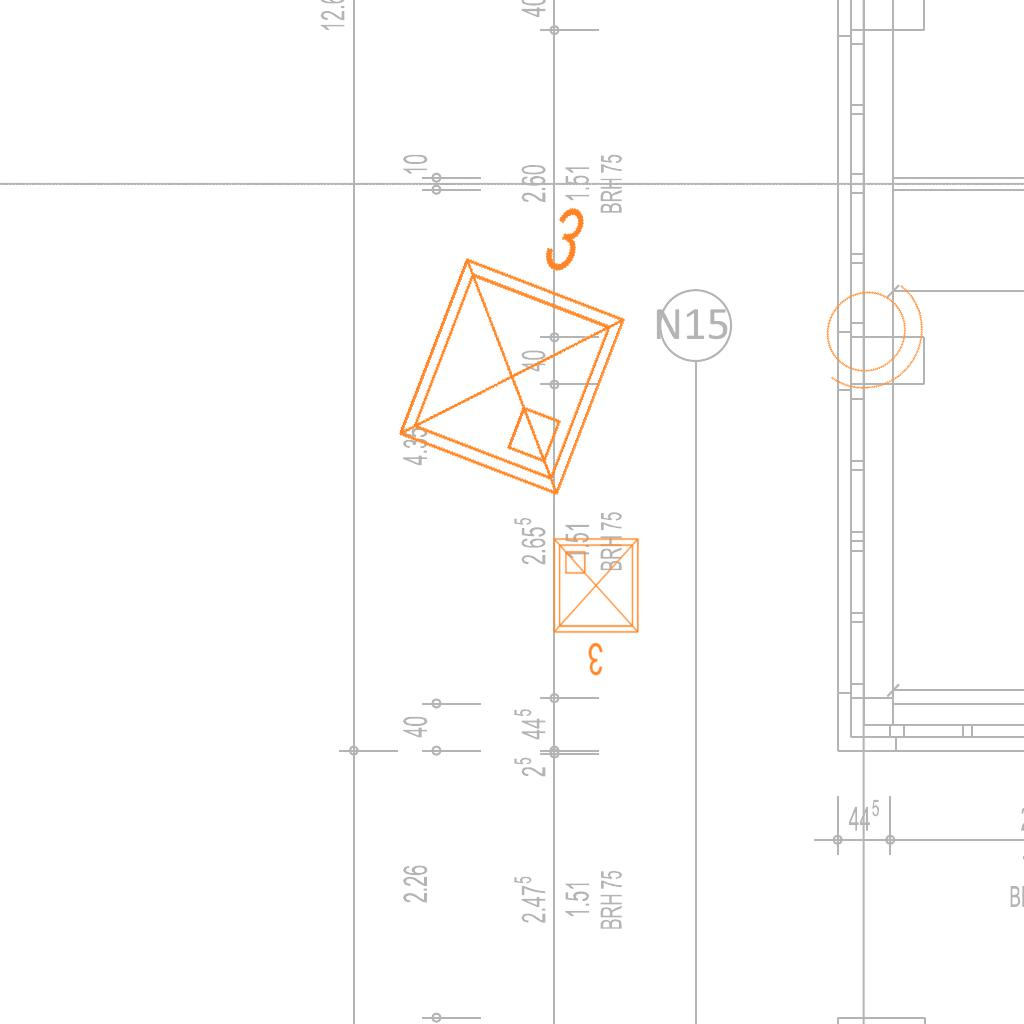Einbaudownlights_LED_Konferenzraeume: (372, 159, 674, 515), (546, 531, 650, 681)
Scheinwerfer_fuer_Alarmbeleuchtung: (787, 245, 957, 419)
